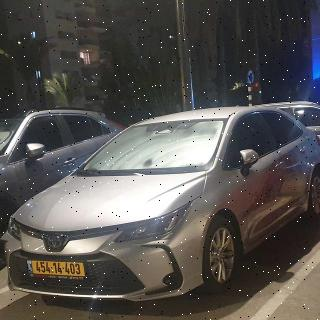LicensePlate: (31, 261, 85, 276)
